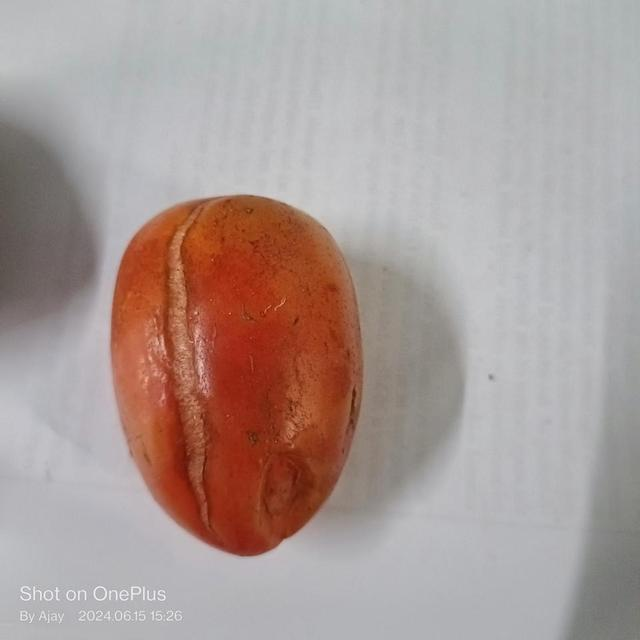Cracking Fruit: (56, 67, 163, 311)
